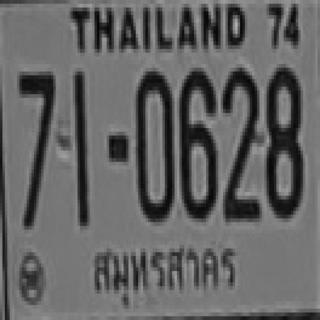N00: (135, 68, 171, 218)
N01: (74, 70, 88, 224)
N02: (221, 64, 259, 218)
N06: (177, 68, 216, 218)
N07: (17, 68, 53, 226)
N08: (264, 64, 301, 215)
P58: (87, 242, 244, 311)
